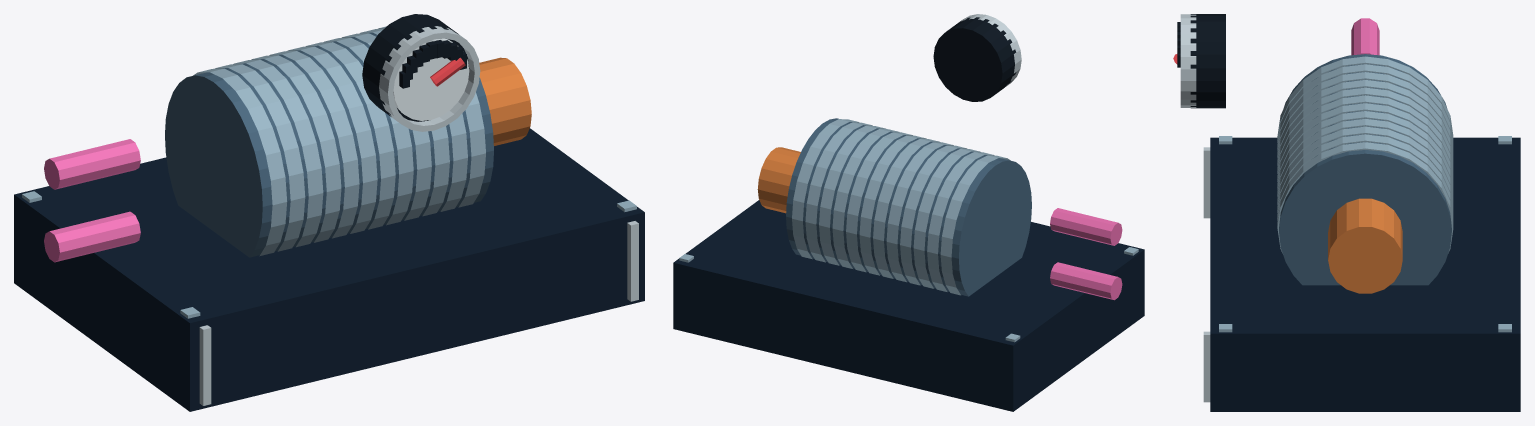
File: 06_L74_PhotoresistMeteringPump.fbx
The picture shows the model from 3 angles, left to right: view 1: azimuth 30°, elevation 25°; view 2: azimuth 150°, elevation 25°; view 3: azimuth 270°, elevation 25°; orthographic projection. The views are drawn at different scales.
Visible parts, largest first — view 1: PhotoresistMeteringPump, PhotoresistMeteringPump_Part_0007, PhotoresistMeteringPump_Part_0020, PhotoresistMeteringPump_Part_0008, PhotoresistMeteringPump_Part_0013, PhotoresistMeteringPump_Part_0011, PhotoresistMeteringPump_Part_0010, PhotoresistMeteringPump_Part_0012, PhotoresistMeteringPump_Part_0009, PhotoresistMeteringPump_Part_0014, PhotoresistMeteringPump_Part_0015, PhotoresistMeteringPump_Part_0019 (+3 smaller); view 2: PhotoresistMeteringPump, PhotoresistMeteringPump_Part_0007, PhotoresistMeteringPump_Part_0020, PhotoresistMeteringPump_Part_0008, PhotoresistMeteringPump_Part_0014, PhotoresistMeteringPump_Part_0010, PhotoresistMeteringPump_Part_0011, PhotoresistMeteringPump_Part_0012, PhotoresistMeteringPump_Part_0009, PhotoresistMeteringPump_Part_0018, PhotoresistMeteringPump_Part_0015, PhotoresistMeteringPump_Part_0013 (+3 smaller); view 3: PhotoresistMeteringPump, PhotoresistMeteringPump_Part_0007, PhotoresistMeteringPump_Part_0020, PhotoresistMeteringPump_Part_0019, PhotoresistMeteringPump_Part_0018, PhotoresistMeteringPump_Part_0014, PhotoresistMeteringPump_Part_0009, PhotoresistMeteringPump_Part_0008, PhotoresistMeteringPump_Part_0012, PhotoresistMeteringPump_Part_0013, PhotoresistMeteringPump_Part_0015, PhotoresistMeteringPump_Part_0017 (+3 smaller).
Boxes of the visible parts, x1=… form: PhotoresistMeteringPump: x1=14, y1=14, x2=644, y2=411; PhotoresistMeteringPump_Part_0007: x1=165, y1=32, x2=493, y2=257; PhotoresistMeteringPump_Part_0020: x1=479, y1=57, x2=531, y2=145; PhotoresistMeteringPump_Part_0008: x1=193, y1=68, x2=287, y2=256; PhotoresistMeteringPump_Part_0013: x1=287, y1=46, x2=377, y2=233; PhotoresistMeteringPump_Part_0011: x1=251, y1=55, x2=341, y2=242; PhotoresistMeteringPump_Part_0010: x1=233, y1=59, x2=323, y2=247; PhotoresistMeteringPump_Part_0012: x1=269, y1=51, x2=359, y2=238; PhotoresistMeteringPump_Part_0009: x1=215, y1=64, x2=305, y2=251; PhotoresistMeteringPump_Part_0014: x1=305, y1=42, x2=395, y2=229; PhotoresistMeteringPump_Part_0015: x1=323, y1=37, x2=413, y2=225; PhotoresistMeteringPump_Part_0019: x1=458, y1=92, x2=485, y2=207; PhotoresistMeteringPump: x1=673, y1=14, x2=1144, y2=411; PhotoresistMeteringPump_Part_0007: x1=786, y1=118, x2=1031, y2=296; PhotoresistMeteringPump_Part_0020: x1=757, y1=147, x2=800, y2=213; PhotoresistMeteringPump_Part_0008: x1=940, y1=155, x2=1010, y2=295; PhotoresistMeteringPump_Part_0014: x1=859, y1=135, x2=926, y2=275; PhotoresistMeteringPump_Part_0010: x1=913, y1=148, x2=980, y2=288; PhotoresistMeteringPump_Part_0011: x1=900, y1=145, x2=967, y2=285; PhotoresistMeteringPump_Part_0012: x1=886, y1=142, x2=953, y2=282; PhotoresistMeteringPump_Part_0009: x1=927, y1=152, x2=994, y2=291; PhotoresistMeteringPump_Part_0018: x1=805, y1=122, x2=872, y2=262; PhotoresistMeteringPump_Part_0015: x1=846, y1=132, x2=912, y2=272; PhotoresistMeteringPump_Part_0013: x1=873, y1=139, x2=940, y2=278; PhotoresistMeteringPump: x1=1173, y1=14, x2=1520, y2=411; PhotoresistMeteringPump_Part_0007: x1=1279, y1=54, x2=1451, y2=285; PhotoresistMeteringPump_Part_0020: x1=1328, y1=198, x2=1402, y2=293; PhotoresistMeteringPump_Part_0019: x1=1277, y1=142, x2=1453, y2=253; PhotoresistMeteringPump_Part_0018: x1=1277, y1=134, x2=1453, y2=220; PhotoresistMeteringPump_Part_0014: x1=1277, y1=103, x2=1453, y2=189; PhotoresistMeteringPump_Part_0009: x1=1277, y1=64, x2=1453, y2=150; PhotoresistMeteringPump_Part_0008: x1=1277, y1=56, x2=1453, y2=142; PhotoresistMeteringPump_Part_0012: x1=1277, y1=87, x2=1453, y2=173; PhotoresistMeteringPump_Part_0013: x1=1277, y1=95, x2=1453, y2=181; PhotoresistMeteringPump_Part_0015: x1=1277, y1=111, x2=1453, y2=196; PhotoresistMeteringPump_Part_0017: x1=1277, y1=126, x2=1453, y2=212.
Bounding box in the file's own units: 131 × 83 × 88.39.
